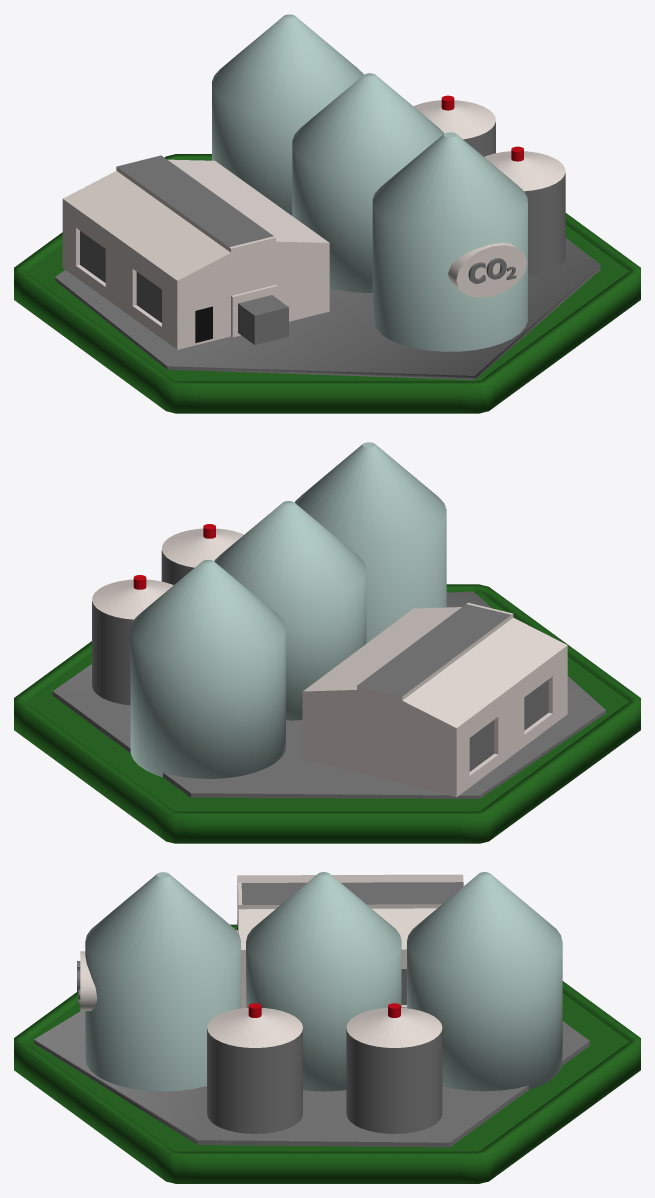
Rendered from CO2_Tile.fbx.
3 renders of one model, top to bottom at view 1: azimuth 30°, elevation 25°; view 2: azimuth 150°, elevation 25°; view 3: azimuth 270°, elevation 25°, orthographic.
Parts seen in each view (by area): view 1: Cube.019, Cube.022, Cylinder.003, Cube.018, Cube.021, Cube.020, Cube.070, Cube.024, Cube.023, Cube.028; view 2: Cube.019, Cube.020, Cylinder.003, Cube.021, Cube.022, Cube.018, Cube.070, Cube.023, Cube.024; view 3: Cube.020, Cube.022, Cylinder.003, Cube.021, Cube.018, Cube.023, Cube.024, Cube.070, Cube.019, Cube.028.
Boxes of the visible parts, <box> form: Cube.019: <box>62,155,329,349</box>; Cube.022: <box>372,132,527,351</box>; Cylinder.003: <box>14,154,640,413</box>; Cube.018: <box>55,238,600,379</box>; Cube.021: <box>292,73,444,292</box>; Cube.020: <box>212,14,363,215</box>; Cube.070: <box>25,225,629,381</box>; Cube.024: <box>484,146,565,276</box>; Cube.023: <box>413,95,495,156</box>; Cube.028: <box>448,242,527,297</box>; Cube.019: <box>302,602,567,797</box>; Cube.020: <box>130,560,285,778</box>; Cylinder.003: <box>14,584,640,843</box>; Cube.021: <box>214,501,366,720</box>; Cube.022: <box>294,442,446,643</box>; Cube.018: <box>52,591,605,798</box>; Cube.070: <box>25,591,629,811</box>; Cube.023: <box>92,575,173,705</box>; Cube.024: <box>161,524,243,584</box>; Cube.020: <box>407,872,562,1091</box>; Cube.022: <box>85,872,240,1091</box>; Cylinder.003: <box>14,924,640,1183</box>; Cube.021: <box>246,872,401,1091</box>; Cube.018: <box>34,1011,589,1147</box>; Cube.023: <box>346,1003,442,1133</box>; Cube.024: <box>207,1003,302,1133</box>; Cube.070: <box>25,993,629,1151</box>; Cube.019: <box>236,874,463,1008</box>; Cube.028: <box>80,951,97,1010</box>.
Bounding box in the file's own units: 100 × 42.83 × 114.
